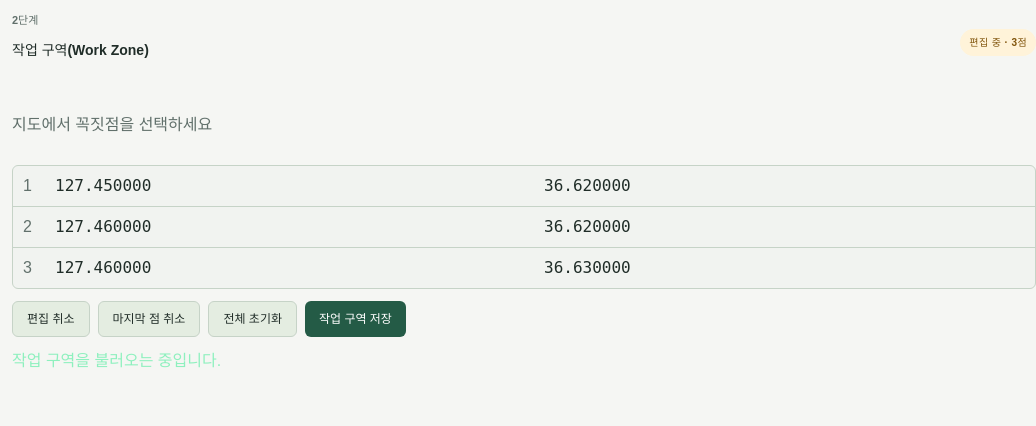
Scenario: WorkZoneEditor › 저장 실패 시 편집 내용을 유지하고 사용자 메시지를 표시한다
This screenshot has width=1036, height=426.
Step 1. Click the button "작업 구역 저장" → (355, 319), box x1=305 y1=301 x2=406 y2=337
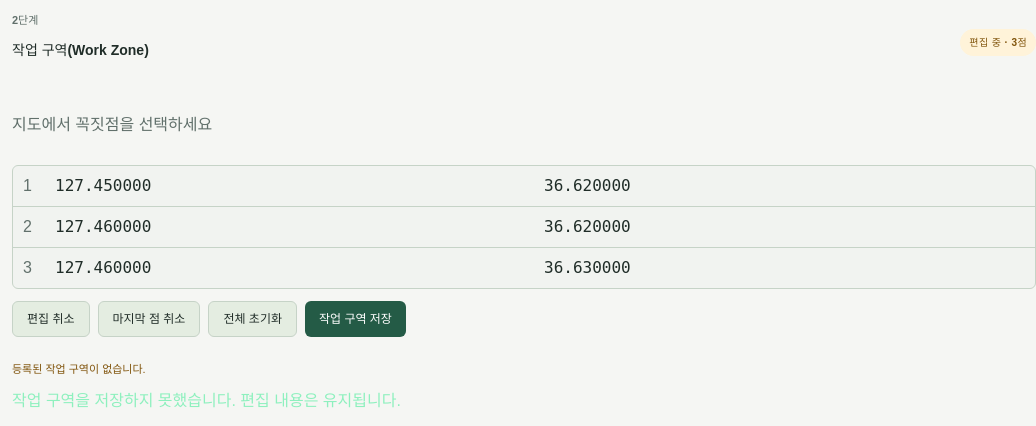
Check: the text "작업 구역을 저장하지 못했습니다. 편집 내용은 유지됩니다." is shown, box x1=12 y1=392 x2=401 y2=409
